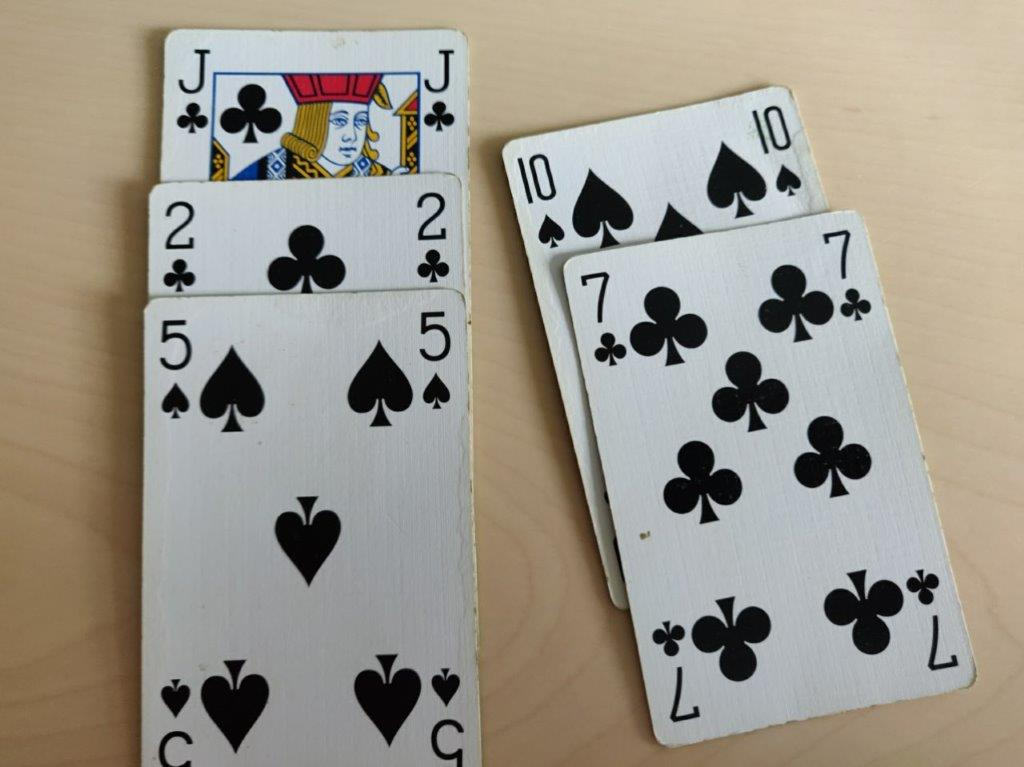10S: (509, 149, 572, 249), (745, 102, 808, 202)
2C: (150, 187, 205, 294), (406, 183, 461, 290)
5S: (147, 302, 197, 425), (412, 306, 462, 429)
7C: (574, 258, 630, 375), (819, 222, 875, 339)
JC: (169, 39, 215, 140), (417, 40, 463, 141)
